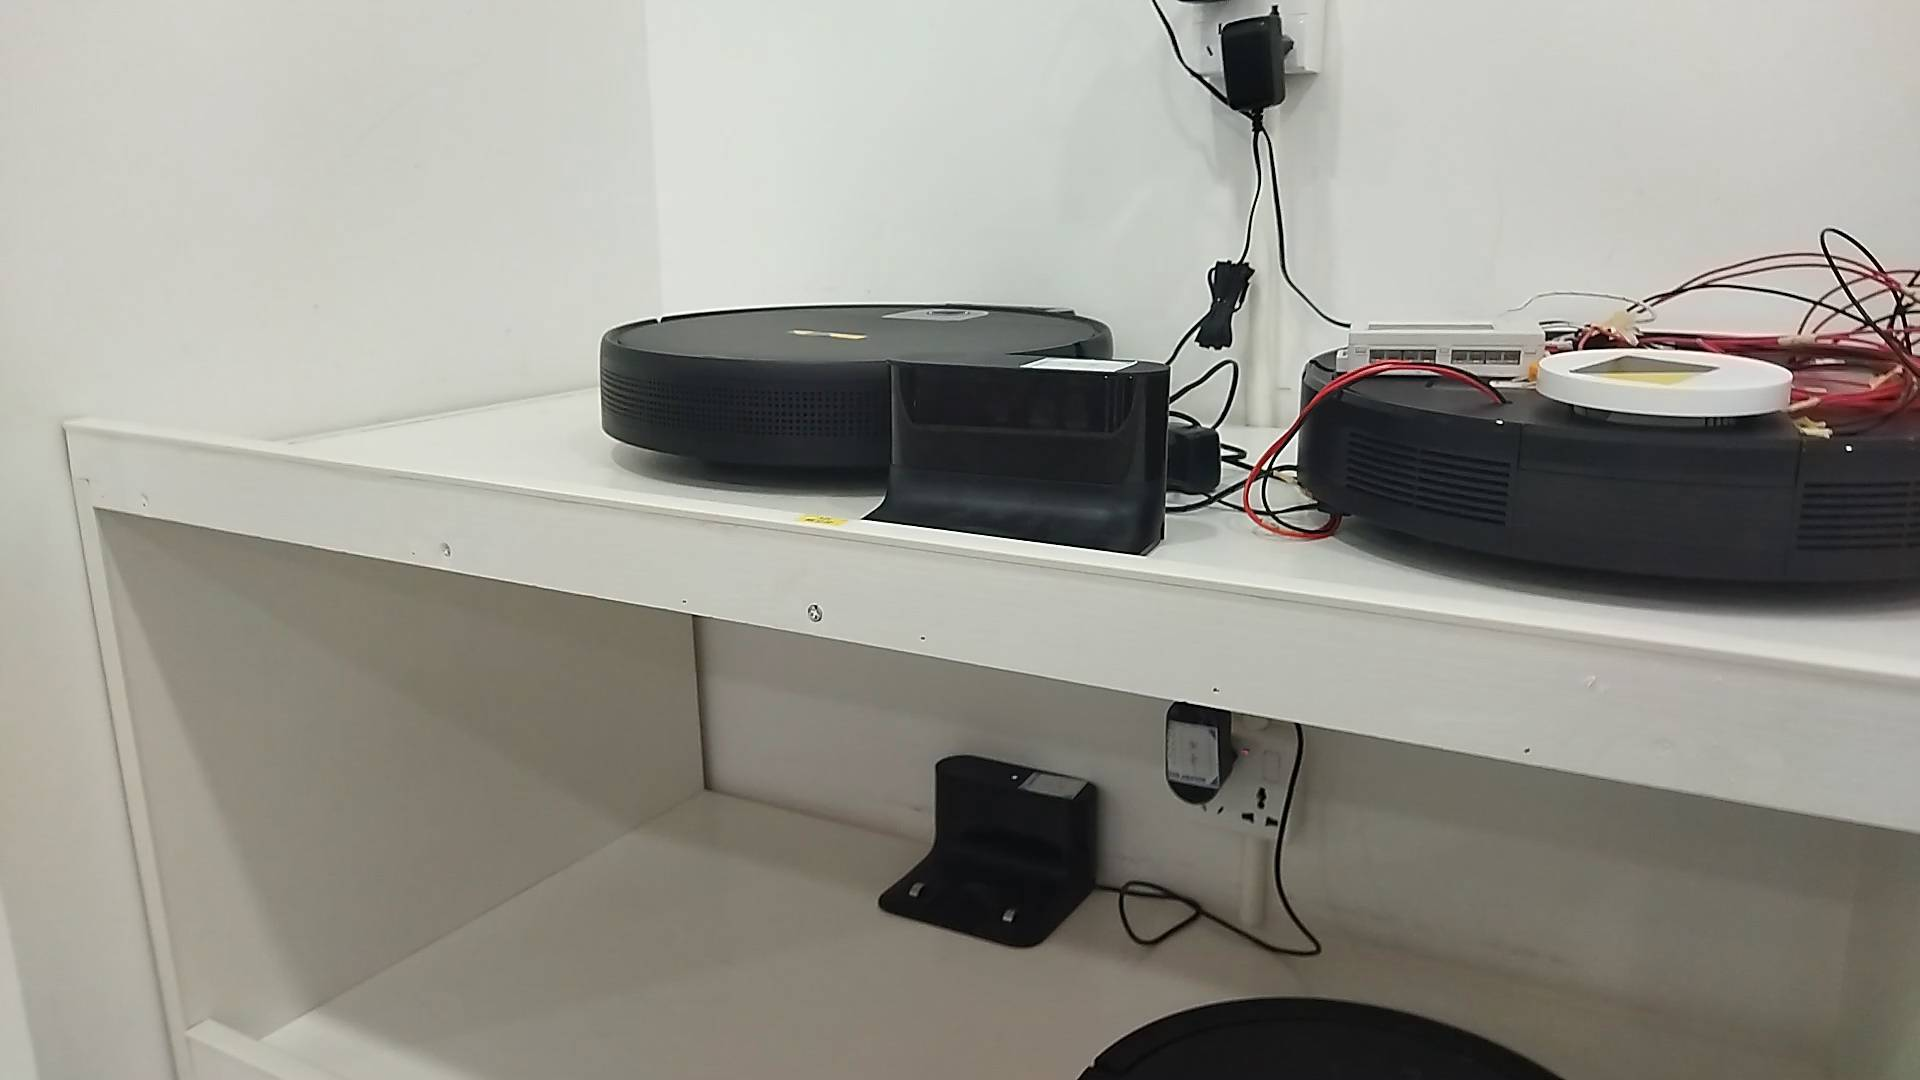recharge seat: (861, 352, 1178, 553), (877, 753, 1102, 952)
